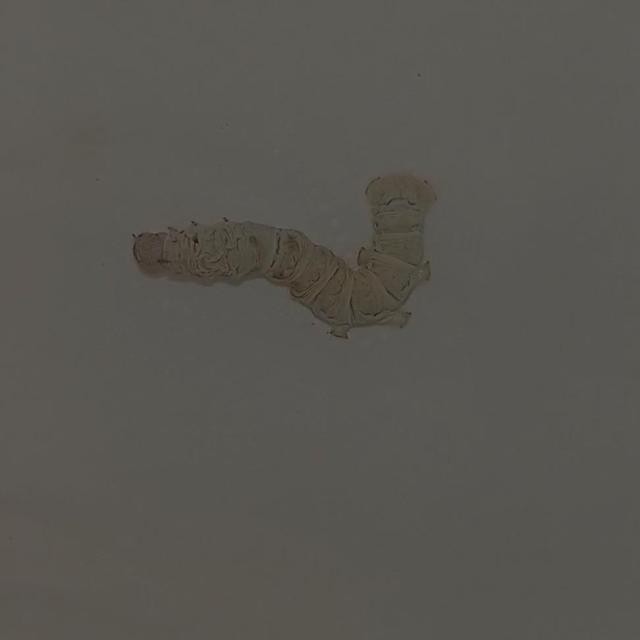Healthy: (102, 140, 529, 371)
